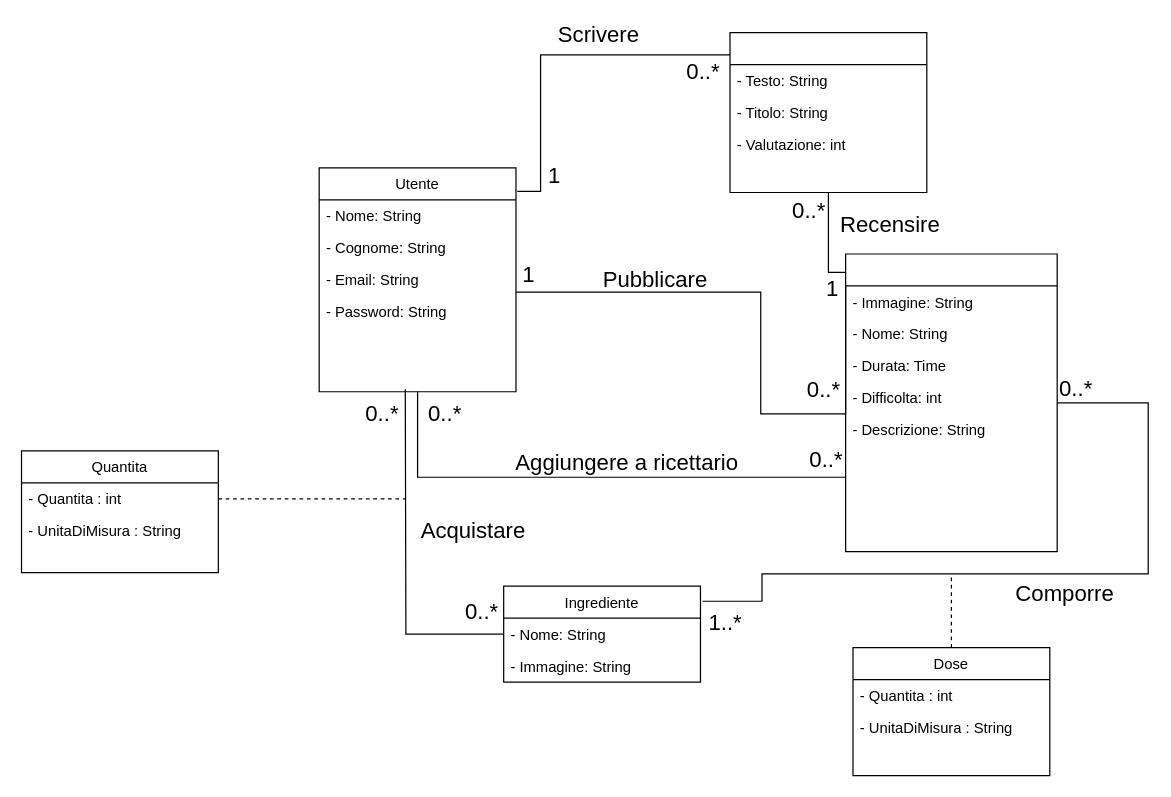
Some shapes in this 1171 by 797 pixel diagram are drawn without their labels. The box of each missing label's shape, as (x1, y1, x2, y2) in pixels:
Recensione: (729, 31, 927, 192)
Ricetta: (844, 253, 1057, 552)
